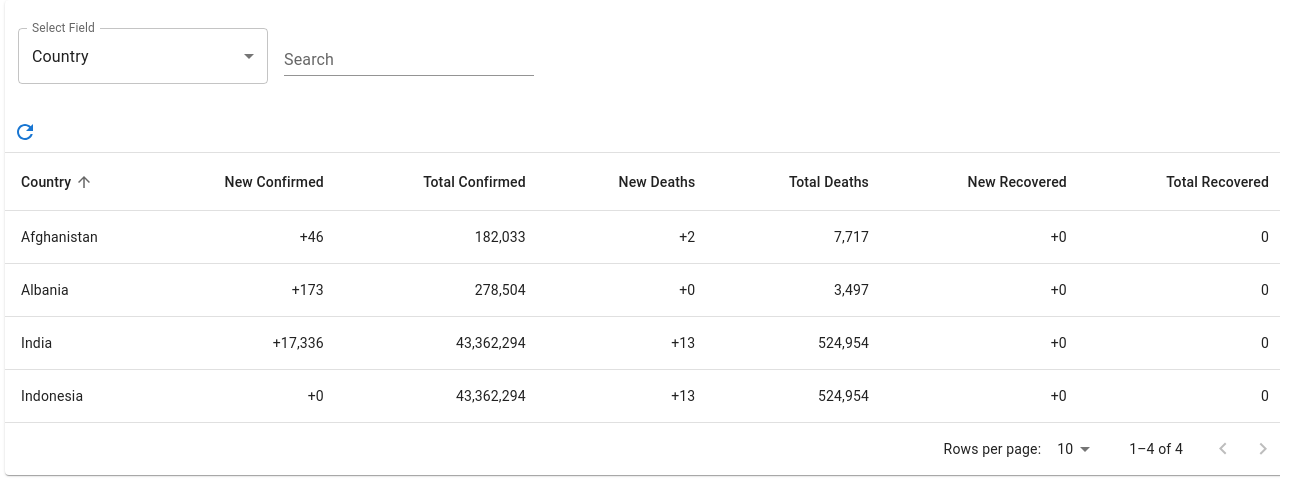
it: Covid Table › should sort the "Country" in "asc" order and the first item after sort should be "Afghanistan"
What coordinates should you click on to do the following:
click the button with test id "Country"
I would click on:
 (59, 182)
Its box is [21,170,97,194].
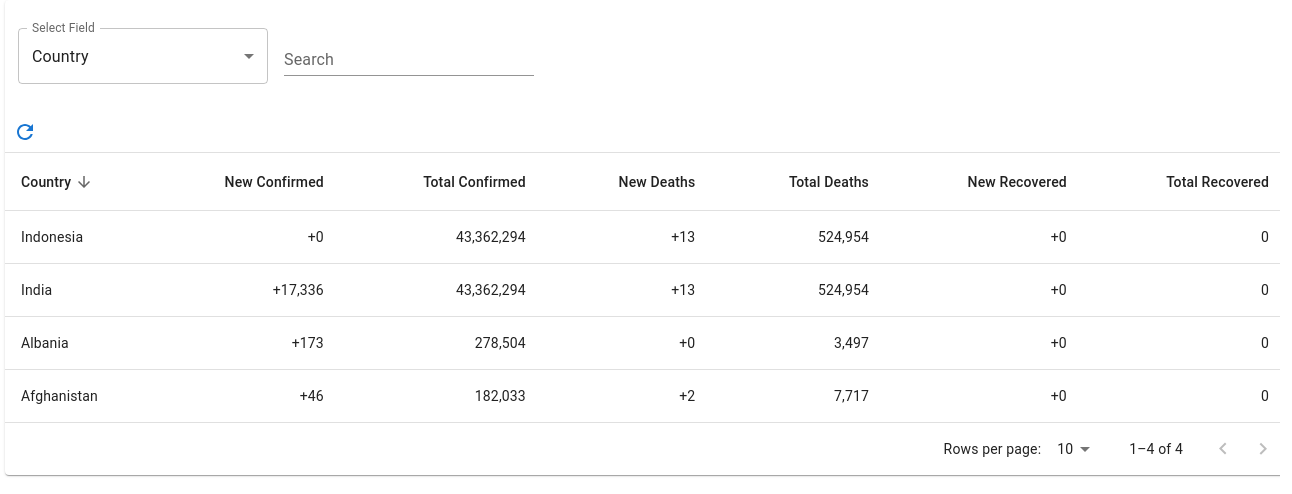
What coordinates should you click on to do the following:
click the button with test id "Country"
I would click on:
 (59, 182)
Its box is [21,170,97,194].
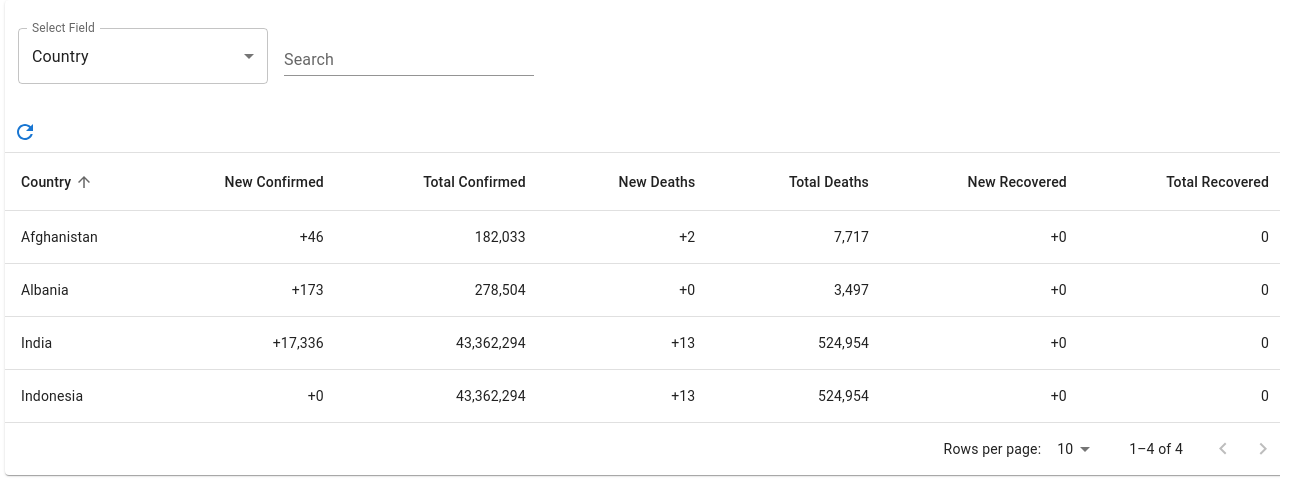
expect the column heading with test id "country" reads "Afghanistan": met, box [21,229,98,245]
